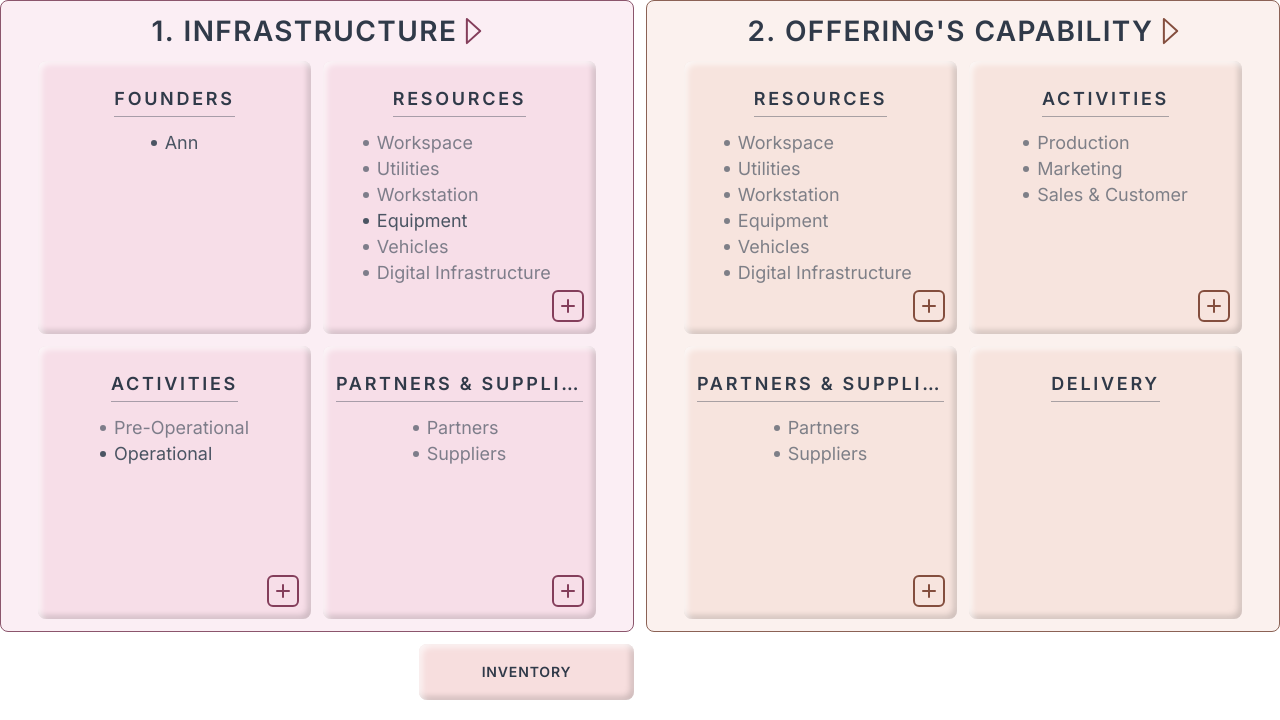
Test case: the Activity card › a Per unit resource takes the units the activity uses, and the Cost is the price times them
Click the button "Activities" below "1." at coordinates (174, 387), box left=38, top=346, right=311, bottom=619
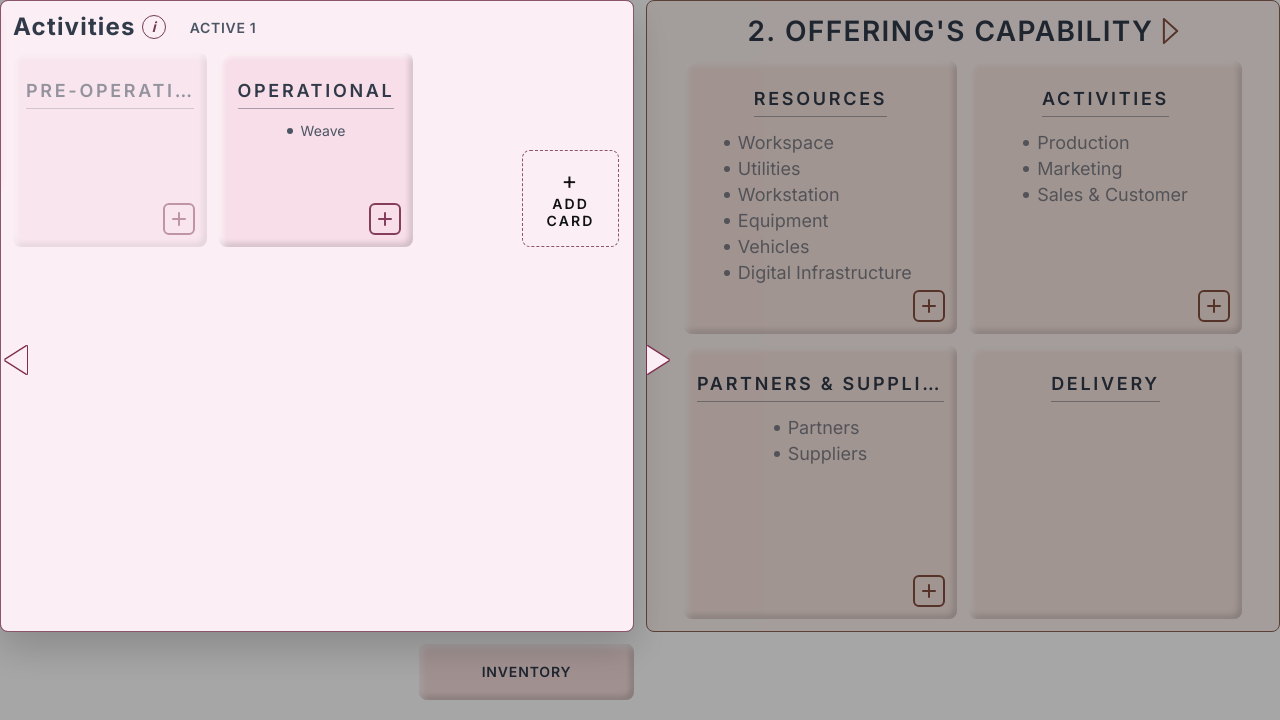
Click the button with class "section-tile" showing "Operational" at coordinates (316, 150), box left=219, top=53, right=413, bottom=247
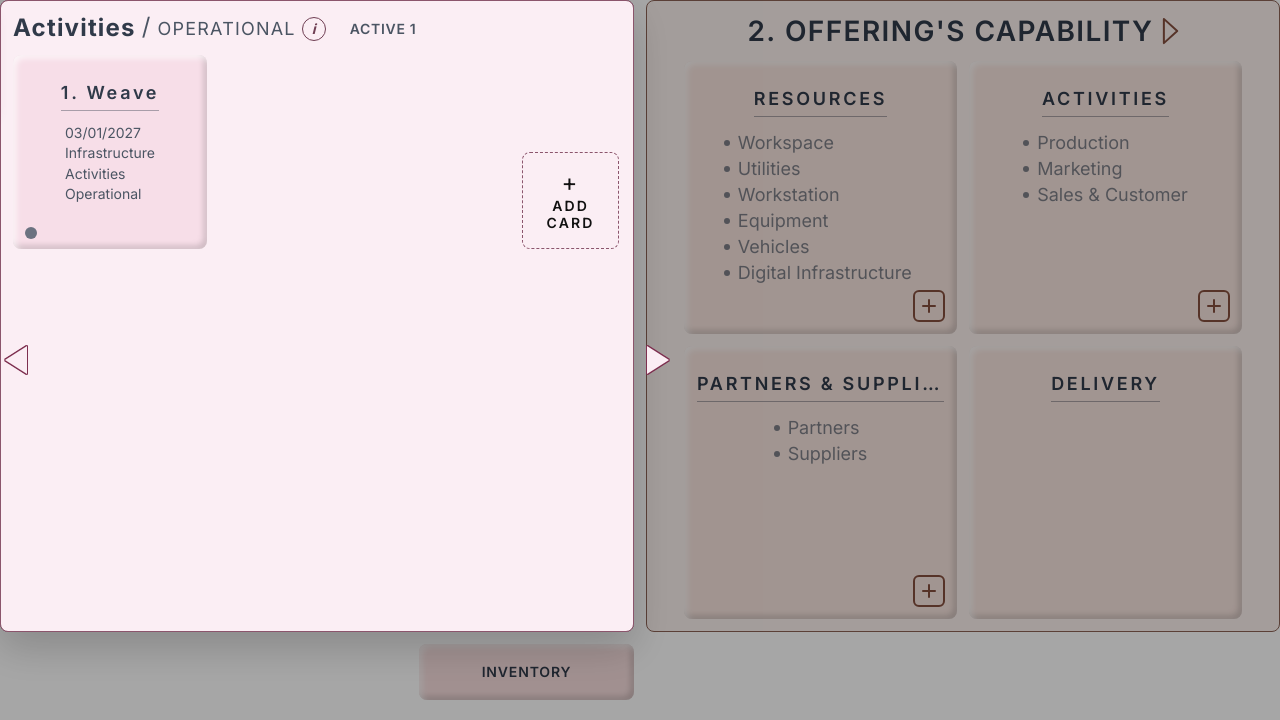
Click the button with class "card-tile" at coordinates (110, 152), box left=13, top=55, right=207, bottom=249
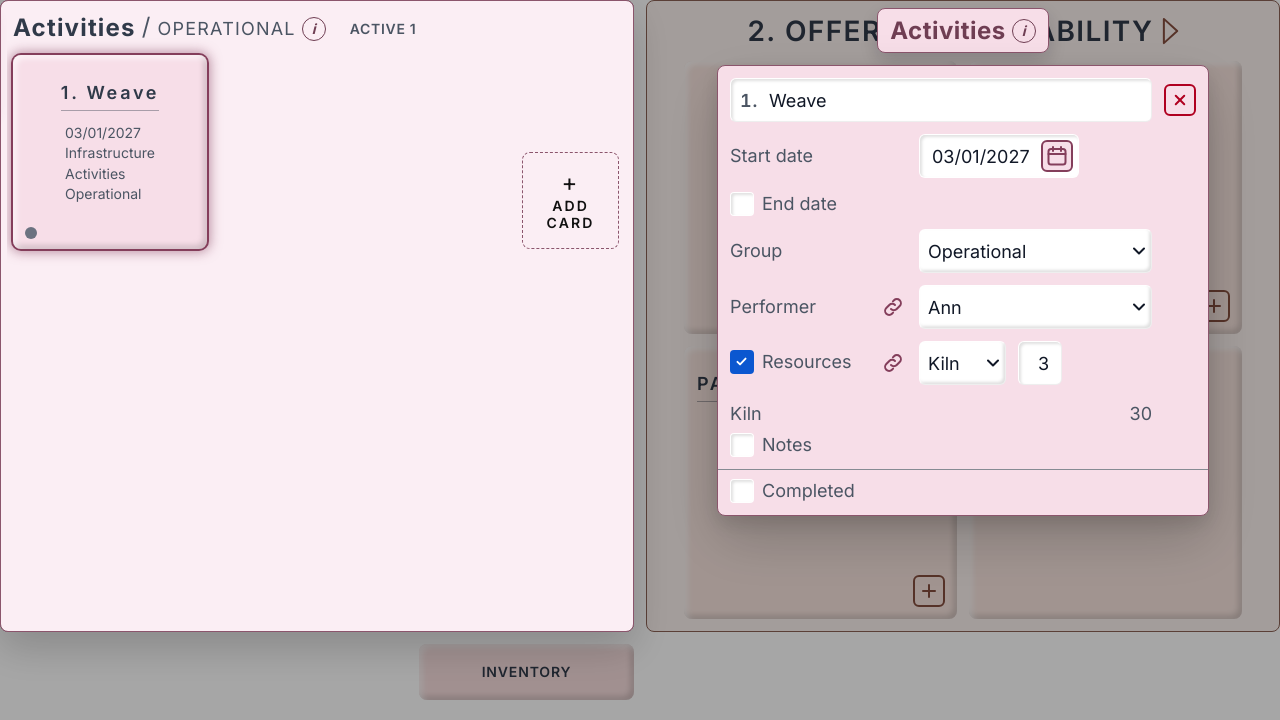
Now the field named "Activity 1 units of Kiln" holds "3"
Now the element with class "business-capability-cost-line" reads "Kiln 30", box left=730, top=404, right=1152, bottom=424
Replace the text in the field named "Activity 1 units of Kiln" with "99" at coordinates (1040, 364), box left=1018, top=342, right=1062, bottom=386
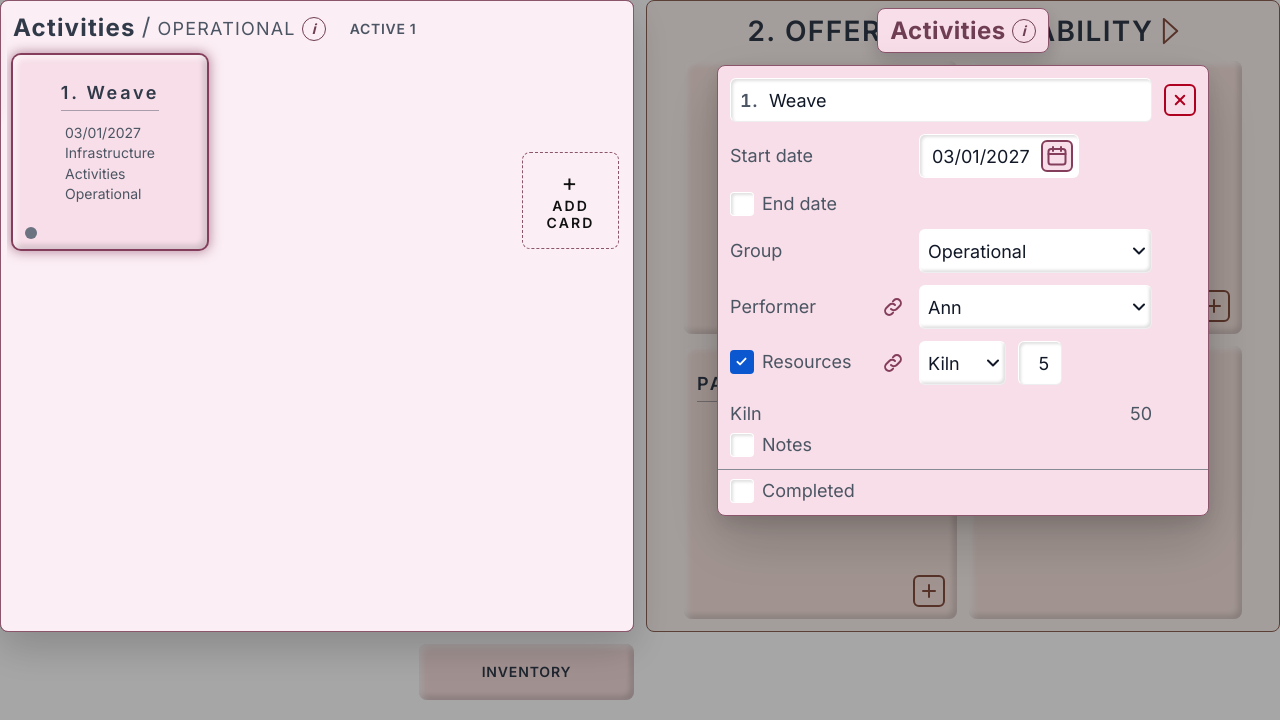
Now the field named "Activity 1 units of Kiln" holds "5", box left=1018, top=342, right=1062, bottom=386
